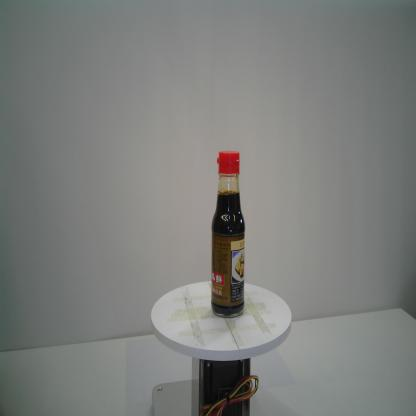Seasoner: (210, 150, 247, 319)
